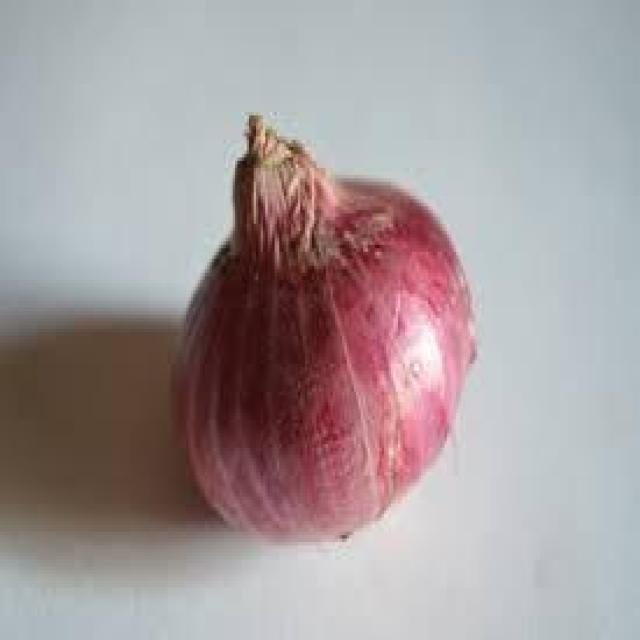organic: (172, 115, 479, 546)
